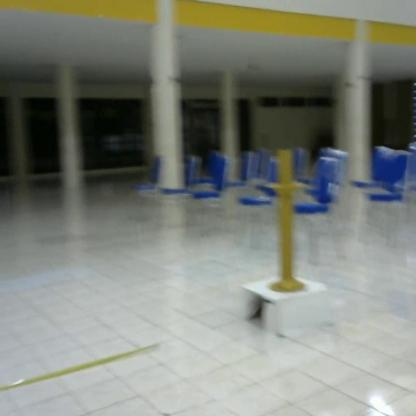pole: (265, 143, 320, 303)
